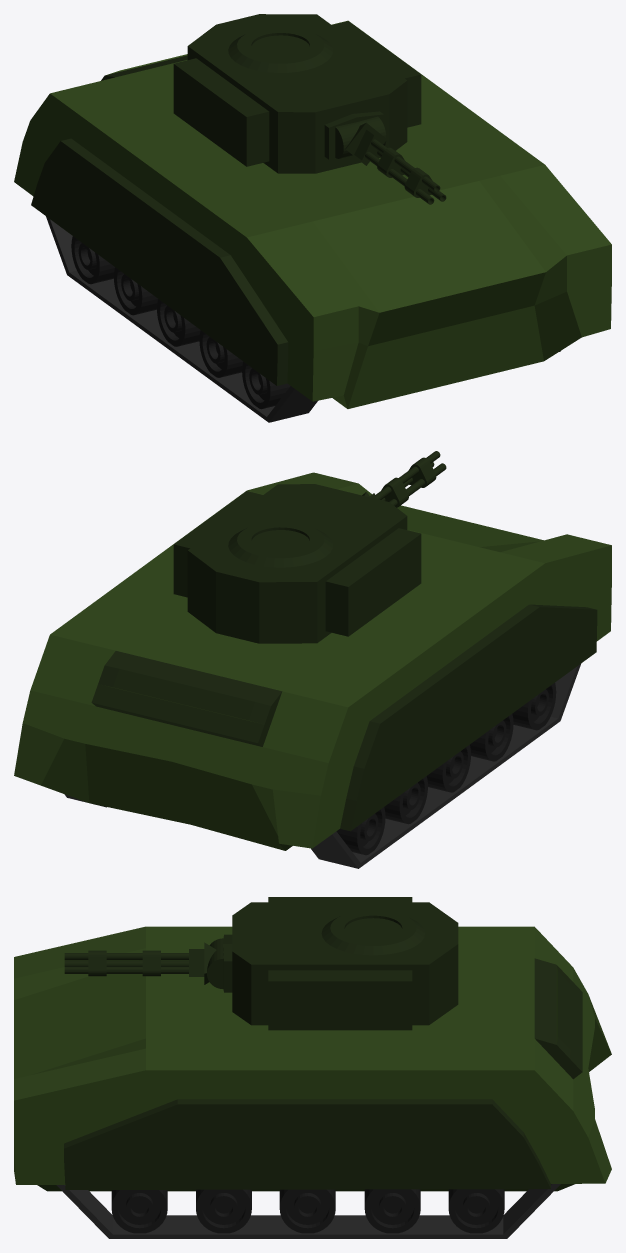
File: tier1.obj
The picture shows the model from 3 angles, top to bottom: view 1: azimuth 30°, elevation 25°; view 2: azimuth 150°, elevation 25°; view 3: azimuth 270°, elevation 25°; orthographic projection.
Parts seen in each view (by area): view 1: Body13_Cube.002, Turret13_Cube.010, Road_Wheels13_Cube.003, Tracks13_Cube.001, Main_Gun13_Cylinder.008, ST13_Cube.011; view 2: Body13_Cube.002, Turret13_Cube.010, Road_Wheels13_Cube.003, Tracks13_Cube.001, Main_Gun13_Cylinder.008; view 3: Body13_Cube.002, Turret13_Cube.010, Road_Wheels13_Cube.003, Tracks13_Cube.001, Main_Gun13_Cylinder.008, ST13_Cube.011.
Part boxes in pixels (<box>): Body13_Cube.002: <box>14,20,611,408</box>; Turret13_Cube.010: <box>173,14,421,173</box>; Road_Wheels13_Cube.003: <box>71,236,290,409</box>; Tracks13_Cube.001: <box>46,216,560,422</box>; Main_Gun13_Cylinder.008: <box>354,130,446,204</box>; ST13_Cube.011: <box>335,116,386,165</box>; Body13_Cube.002: <box>14,472,611,850</box>; Turret13_Cube.010: <box>173,484,421,643</box>; Road_Wheels13_Cube.003: <box>336,683,556,855</box>; Tracks13_Cube.001: <box>64,663,581,868</box>; Main_Gun13_Cylinder.008: <box>370,451,446,507</box>; Body13_Cube.002: <box>14,926,611,1191</box>; Turret13_Cube.010: <box>223,897,458,1030</box>; Road_Wheels13_Cube.003: <box>111,1189,504,1233</box>; Tracks13_Cube.001: <box>56,1184,560,1238</box>; Main_Gun13_Cylinder.008: <box>64,949,204,976</box>; ST13_Cube.011: <box>204,938,223,989</box>.
Bounding box in the file's own units: 3.86 × 2.81 × 6.33.
